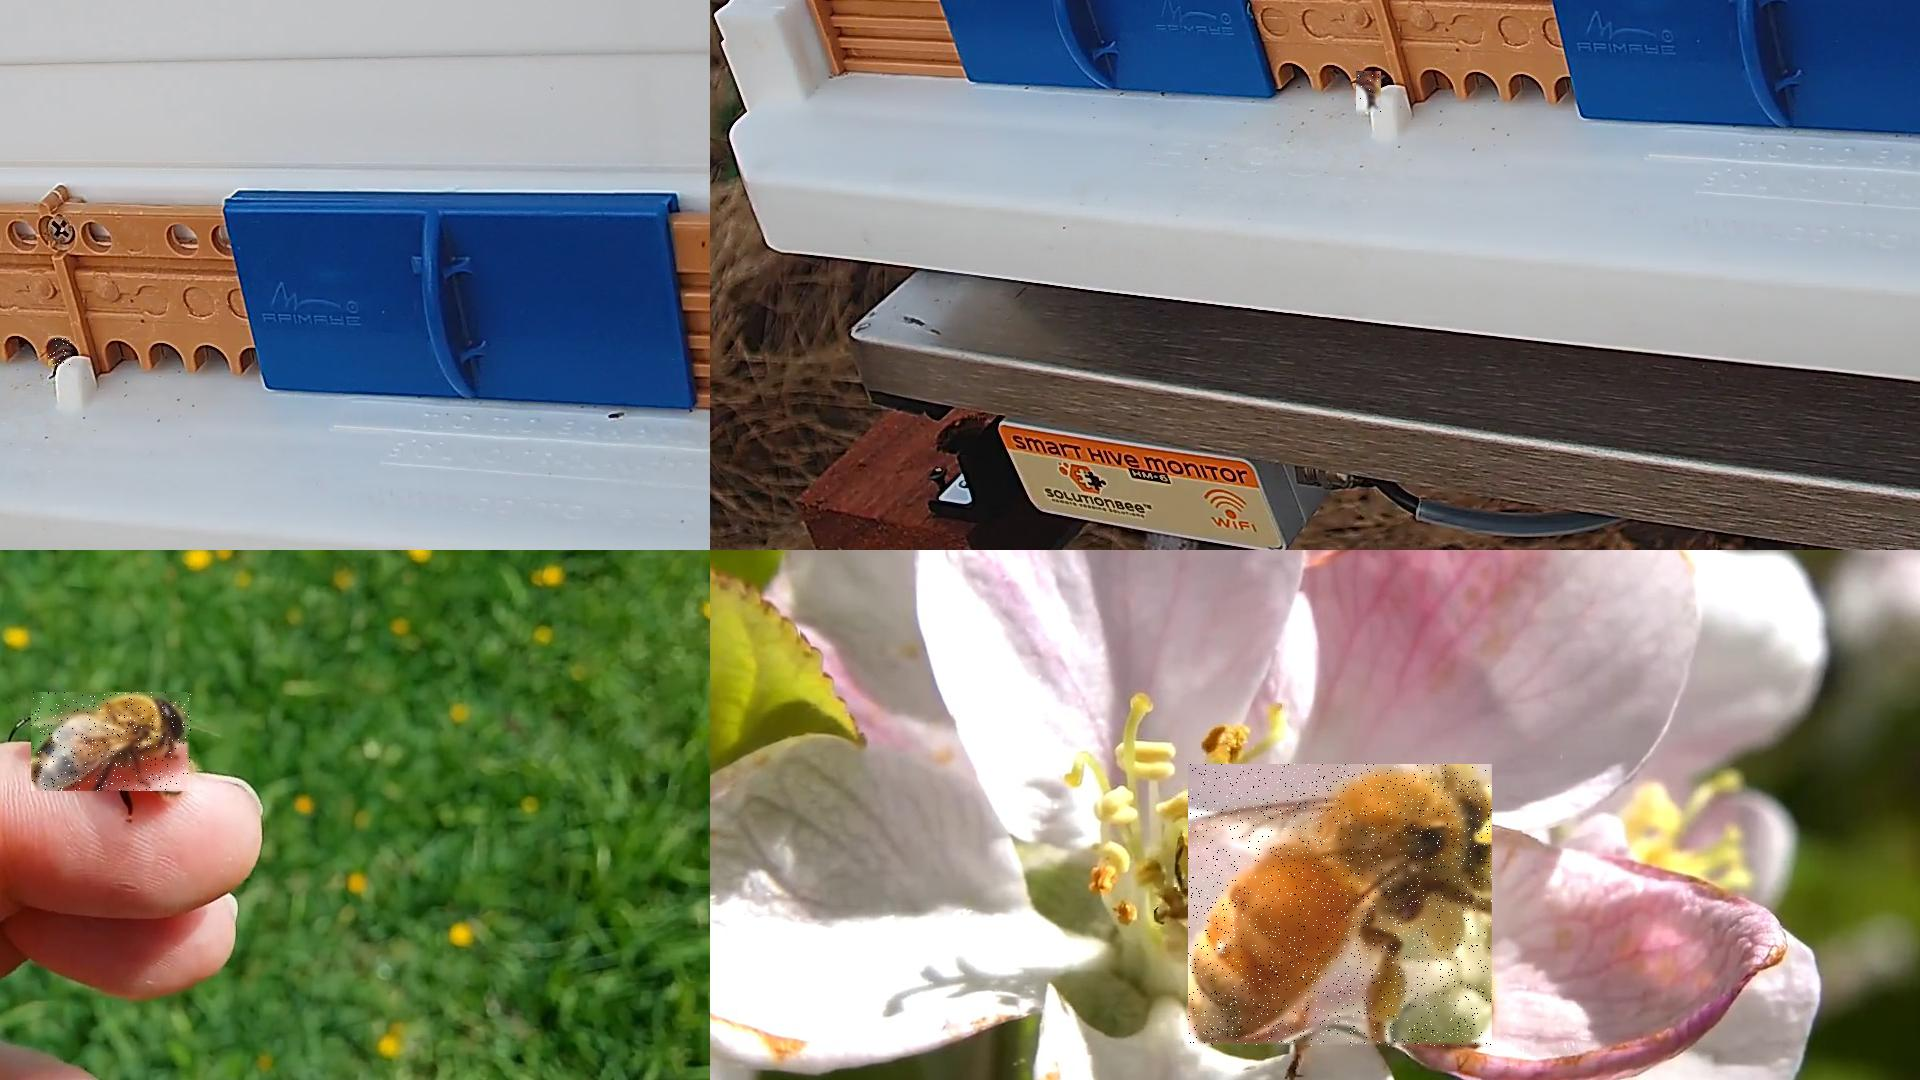bee: (1356, 73, 1382, 115)
drone: (32, 692, 193, 793)
pollenbee: (1188, 765, 1493, 1048), (49, 336, 73, 367)
